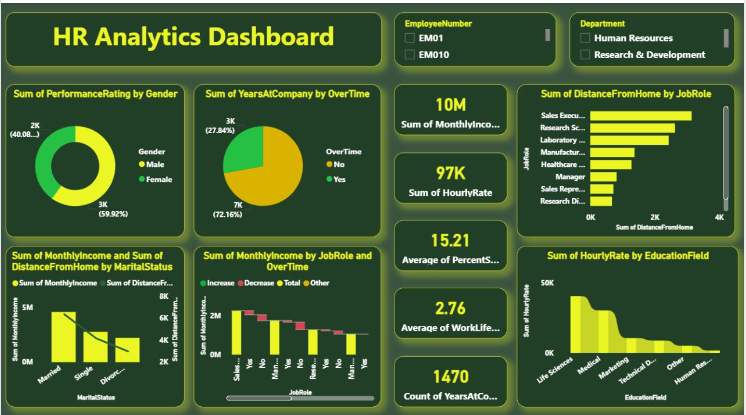

The page's visual inventory and layout, read from the dashboard file:
{"tool":"powerbi","page":{"name":"Page 1","canvas":[1280,720],"ordinal":0},"visuals":[{"type":"textbox","box":[9.4,17,644.4,92.6],"z":0},{"type":"slicer","fields":{"Values":["Sheet1.EmployeeNumber"]},"box":[676.5,17,277.8,92.6],"z":1000},{"type":"slicer","fields":{"Values":["Sheet1.Department"]},"box":[977,17,283.5,92.6],"z":2000},{"type":"card","fields":{"Values":["Sum(Sheet1.MonthlyIncome)"]},"box":[676,140,194.1,87.5],"z":3000},{"type":"card","fields":{"Values":["Sum(Sheet1.HourlyRate)"]},"box":[676,257.7,194.1,87.5],"z":4000},{"type":"card","fields":{"Values":["Avg(Sheet1.PercentSalaryHike)"]},"box":[676,373.8,194.1,87.5],"z":5000},{"type":"card","fields":{"Values":["Avg(Sheet1.WorkLifeBalanceRating)"]},"box":[676,489.9,194.1,87.5],"z":6000},{"type":"card","fields":{"Values":["CountNonNull(Sheet1.YearsAtCompany)"]},"box":[676,607.6,194.1,87.5],"z":7000},{"type":"clusteredBarChart","fields":{"Category":["Sheet1.JobRole"],"Y":["Sum(Sheet1.DistanceFromHome)"]},"box":[886,140,373.8,262.5],"z":8000},{"type":"ribbonChart","fields":{"Category":["Sheet1.EducationField"],"Y":["Sum(Sheet1.HourlyRate)"]},"box":[886,418.3,380.2,276.8],"z":9000},{"type":"donutChart","fields":{"Category":["Sheet1.Gender"],"Y":["Sum(Sheet1.PerformanceRating)"]},"box":[9.5,140,307,262.5],"z":10000},{"type":"pieChart","fields":{"Category":["Sheet1.OverTime"],"Y":["Sum(Sheet1.YearsAtCompany)"]},"box":[332.4,140,321.3,262.5],"z":11000},{"type":"lineStackedColumnComboChart","fields":{"Category":["Sheet1.MaritalStatus"],"Y":["Sum(Sheet1.MonthlyIncome)"],"Y2":["Sum(Sheet1.DistanceFromHome)"]},"box":[9.5,418.3,307,276.8],"z":12000},{"type":"waterfallChart","fields":{"Y":["Sum(Sheet1.MonthlyIncome)"],"Category":["Sheet1.JobRole"],"Breakdown":["Sheet1.OverTime"]},"box":[332.4,418.3,321.3,276.8],"z":13000}]}

Visuals, with their boxes in screenshot pixels (x1, y1, x2, y2), scaled from the page's 1280x720 canvas onto the 746x415 screenshot:
textbox: bbox=[5, 10, 381, 63]
slicer - Sheet1.EmployeeNumber: bbox=[394, 10, 556, 63]
slicer - Sheet1.Department: bbox=[569, 10, 735, 63]
card - Sum(Sheet1.MonthlyIncome): bbox=[394, 81, 507, 131]
card - Sum(Sheet1.HourlyRate): bbox=[394, 149, 507, 199]
card - Avg(Sheet1.PercentSalaryHike): bbox=[394, 215, 507, 266]
card - Avg(Sheet1.WorkLifeBalanceRating): bbox=[394, 282, 507, 333]
card - CountNonNull(Sheet1.YearsAtCompany): bbox=[394, 350, 507, 401]
clusteredBarChart - Sheet1.JobRole x Sum(Sheet1.DistanceFromHome): bbox=[516, 81, 734, 232]
ribbonChart - Sheet1.EducationField x Sum(Sheet1.HourlyRate): bbox=[516, 241, 738, 401]
donutChart - Sheet1.Gender x Sum(Sheet1.PerformanceRating): bbox=[6, 81, 184, 232]
pieChart - Sheet1.OverTime x Sum(Sheet1.YearsAtCompany): bbox=[194, 81, 381, 232]
lineStackedColumnComboChart - Sheet1.MaritalStatus x Sum(Sheet1.MonthlyIncome): bbox=[6, 241, 184, 401]
waterfallChart - Sum(Sheet1.MonthlyIncome) x Sheet1.JobRole: bbox=[194, 241, 381, 401]
